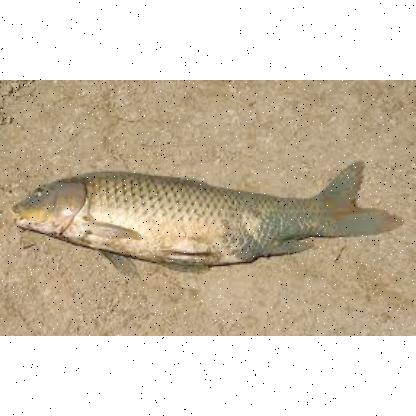ikan-mas: (9, 159, 385, 268)
